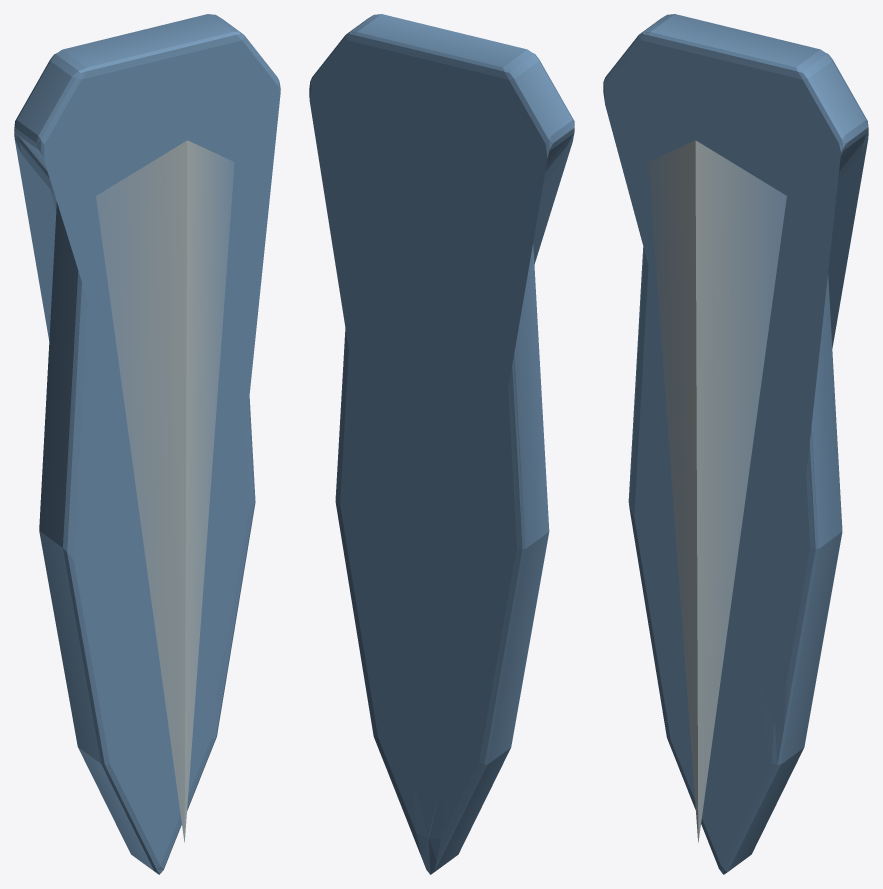
The model's file is Eula_LightfallSwordState_Zero_LightfallBlade.fbx.
3 views of the same model, side by side, from view 1: azimuth 30°, elevation 25°; view 2: azimuth 150°, elevation 25°; view 3: azimuth 330°, elevation 25° (orthographic).
Parts seen in each view (by area): view 1: PART_FacetedPaleSwordBlade, PART_RaisedChiselBladeRidge; view 2: PART_FacetedPaleSwordBlade; view 3: PART_FacetedPaleSwordBlade, PART_RaisedChiselBladeRidge.
Part boxes in pixels (x1,y1,x2,y2): PART_FacetedPaleSwordBlade: [14, 14, 280, 874]; PART_RaisedChiselBladeRidge: [96, 140, 234, 842]; PART_FacetedPaleSwordBlade: [309, 14, 574, 874]; PART_FacetedPaleSwordBlade: [603, 14, 868, 874]; PART_RaisedChiselBladeRidge: [648, 140, 786, 842].
Size of the model in its own units: 50.82 by 165 by 19.5.
